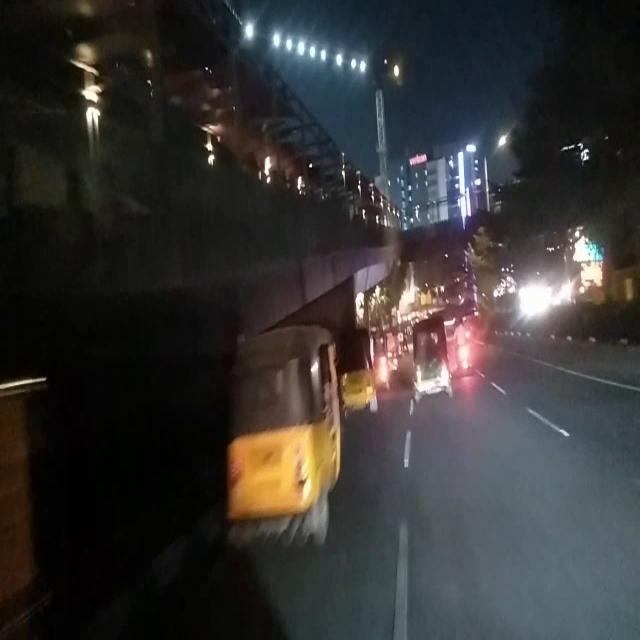auto: (226, 325, 346, 556), (338, 319, 379, 420), (411, 316, 455, 403), (374, 323, 392, 396)
road: (318, 388, 640, 552), (177, 554, 640, 640)
